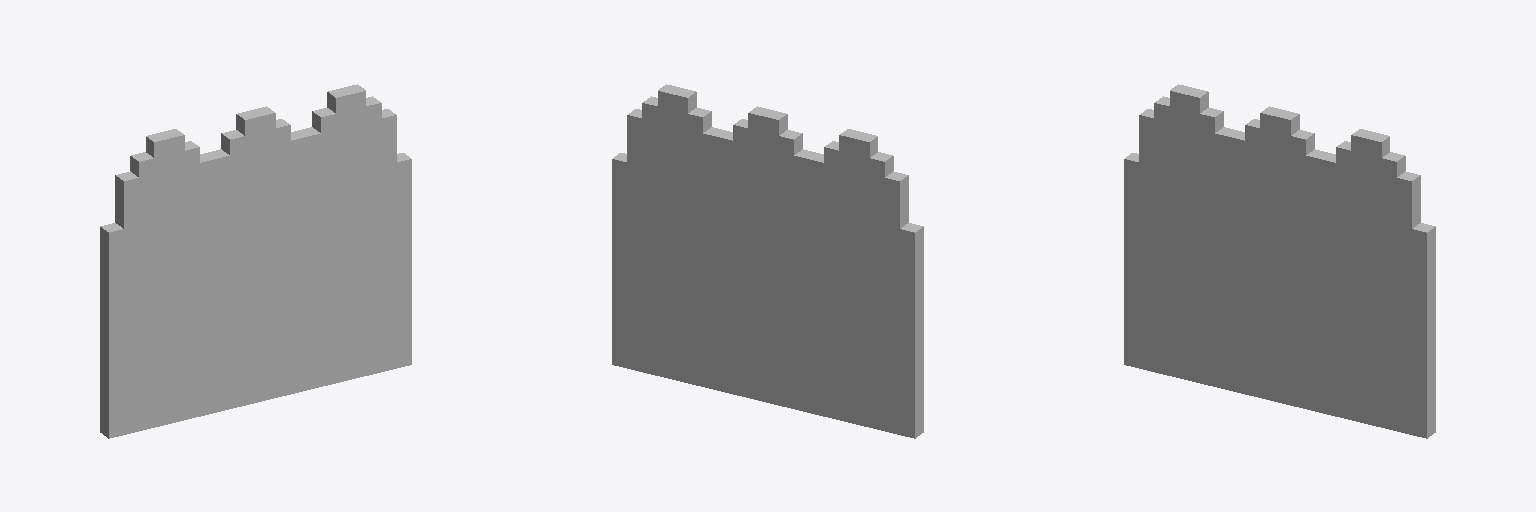
The model's file is AmmoPack.obj.
The picture shows the model from 3 angles: view 1: azimuth 30°, elevation 25°; view 2: azimuth 150°, elevation 25°; view 3: azimuth 330°, elevation 25°; orthographic projection.
Parts seen in each view (by area): view 1: object 1; view 2: object 1; view 3: object 1.
Boxes of the visible parts, <box> form: object 1: <box>100,84,411,438</box>; object 1: <box>612,84,923,438</box>; object 1: <box>1124,84,1435,438</box>.
Size of the model in its own units: 2 by 1.8 by 0.1.